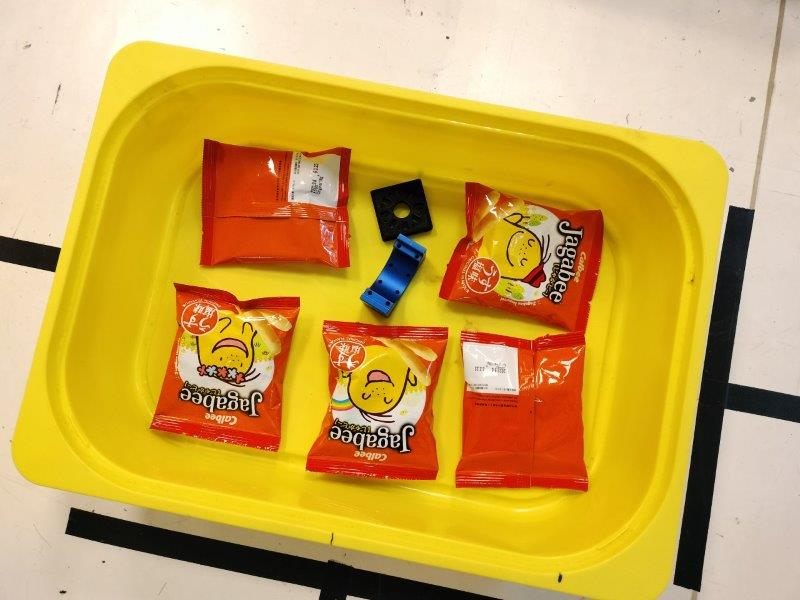Jagabee: (440, 181, 606, 337), (152, 283, 301, 452), (306, 319, 449, 482), (459, 331, 590, 493), (199, 138, 350, 270)
